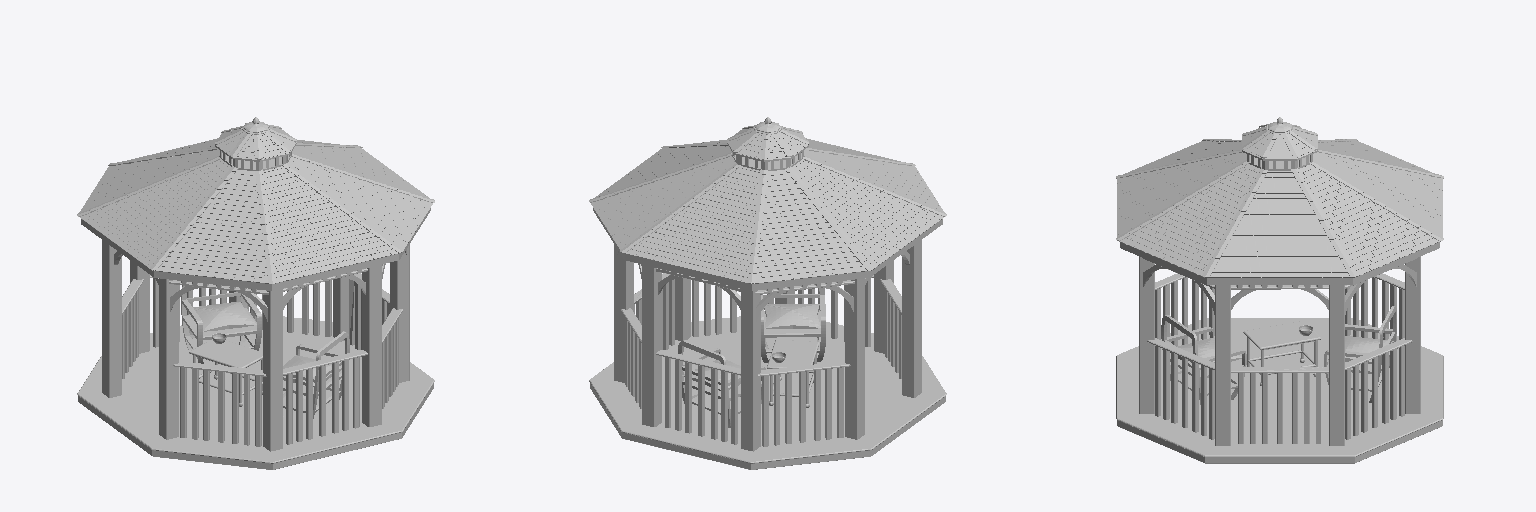
The model's file is gazebo.obj.
3 renders of one model, left to right at view 1: azimuth 30°, elevation 25°; view 2: azimuth 150°, elevation 25°; view 3: azimuth 270°, elevation 25°, orthographic.
Visible parts, largest first — view 1: Body, Roof.005, Roof.007, Roof.001, Roof.006, Roof, Roof.008, Roof.002, Cube.003, RoofEdge.004, Cylinder, RoofEdge.003 (+4 smaller); view 2: Body, Roof.004, Roof.008, Roof.001, Roof.003, Roof, Roof.007, Roof.002, RoofEdge.002, RoofEdge.003, Cylinder, Cube.001 (+4 smaller); view 3: Body, Roof.002, Roof.006, Roof.003, Roof.004, Roof.005, Roof, Cylinder, RoofEdge.001, Cube.001, RoofEdge.002, Roof.007 (+5 smaller).
Part boxes in pixels (left/top/right/bottom): Body: left=77, top=240, right=434, bottom=469; Roof.005: left=263, top=166, right=398, bottom=282; Roof.007: left=153, top=170, right=268, bottom=283; Roof.001: left=80, top=159, right=230, bottom=270; Roof.006: left=288, top=157, right=432, bottom=249; Roof: left=81, top=117, right=430, bottom=290; Roof.008: left=79, top=149, right=219, bottom=212; Roof.002: left=292, top=146, right=428, bottom=197; Cube.003: left=181, top=285, right=261, bottom=363; RoofEdge.004: left=255, top=163, right=403, bottom=283; Cylinder: left=189, top=339, right=262, bottom=406; RoofEdge.003: left=77, top=155, right=238, bottom=270; Body: left=589, top=240, right=946, bottom=469; Roof.004: left=625, top=166, right=759, bottom=283; Roof.008: left=755, top=170, right=866, bottom=283; Roof.001: left=792, top=159, right=943, bottom=268; Roof.003: left=591, top=156, right=735, bottom=249; Roof: left=593, top=117, right=942, bottom=290; Roof.007: left=804, top=150, right=944, bottom=212; Roof.002: left=595, top=146, right=731, bottom=197; RoofEdge.002: left=620, top=163, right=767, bottom=283; RoofEdge.003: left=785, top=155, right=946, bottom=270; Cylinder: left=767, top=340, right=818, bottom=407; Cube.001: left=761, top=288, right=825, bottom=362; Body: left=1116, top=256, right=1443, bottom=463; Roof.002: left=1209, top=171, right=1354, bottom=277; Roof.006: left=1117, top=164, right=1260, bottom=275; Roof.003: left=1299, top=164, right=1439, bottom=276; Roof.004: left=1313, top=152, right=1442, bottom=236; Roof.005: left=1117, top=152, right=1246, bottom=236; Roof: left=1120, top=117, right=1439, bottom=284; Cylinder: left=1243, top=321, right=1320, bottom=385; RoofEdge.001: left=1202, top=168, right=1357, bottom=277; Cube.001: left=1161, top=315, right=1246, bottom=404; RoofEdge.002: left=1310, top=149, right=1443, bottom=241; Roof.007: left=1125, top=141, right=1241, bottom=173.
Size of the model in its own units: 10.35 by 9.71 by 10.35.